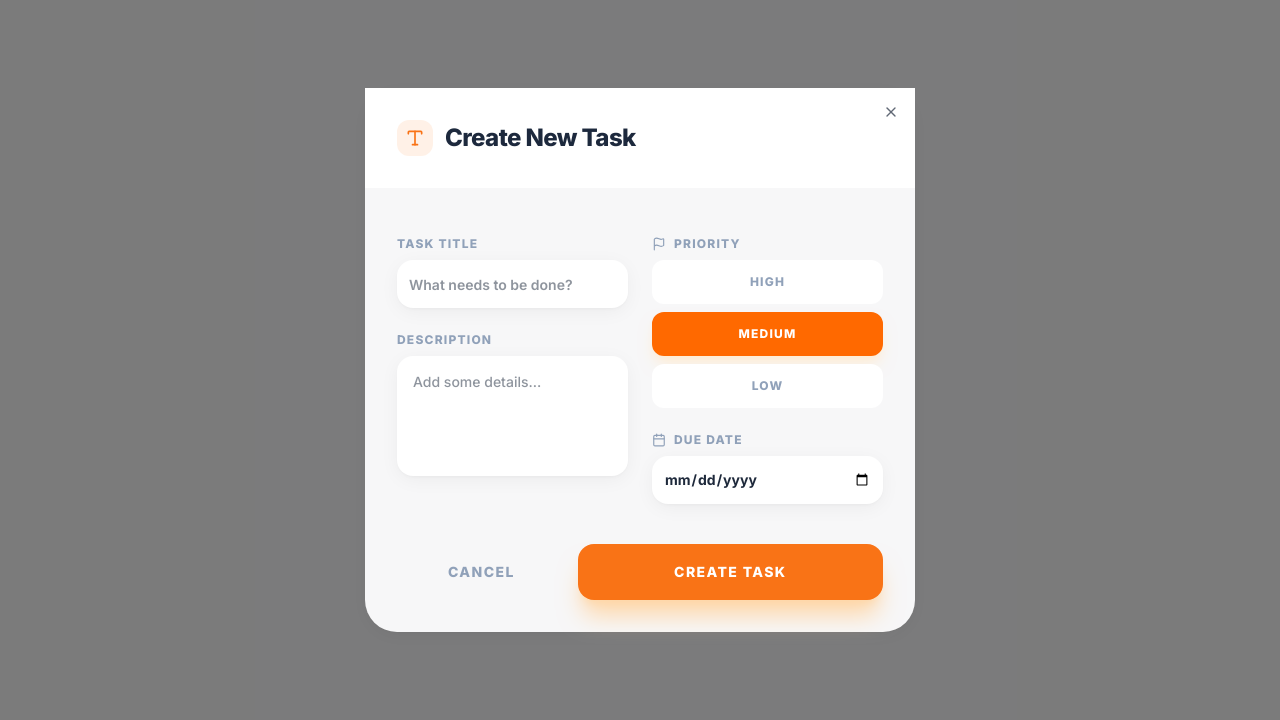
it: TaskModal Component › should show loading state on submit button
This screenshot has width=1280, height=720.
Type "Task" into the field labelled "Task Title" at (512, 284), box [397,260,628,308]
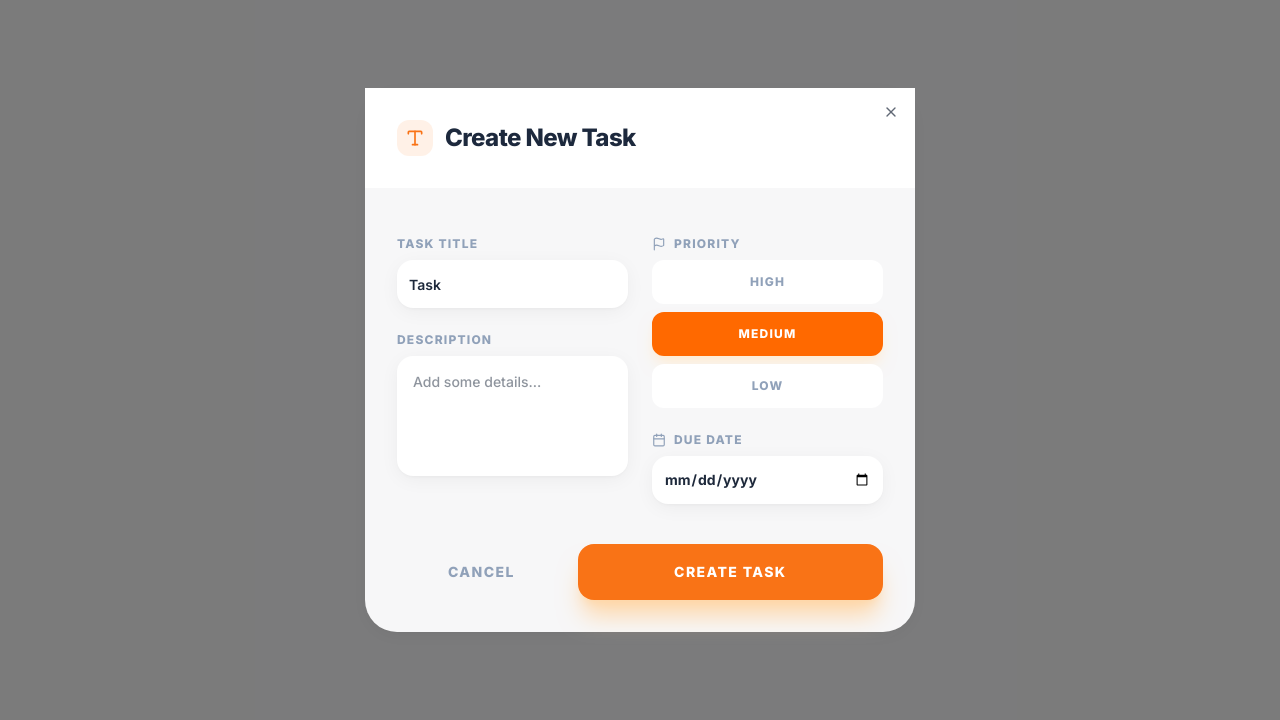
Click the button "Create Task" at (730, 572), box [578,544,883,600]
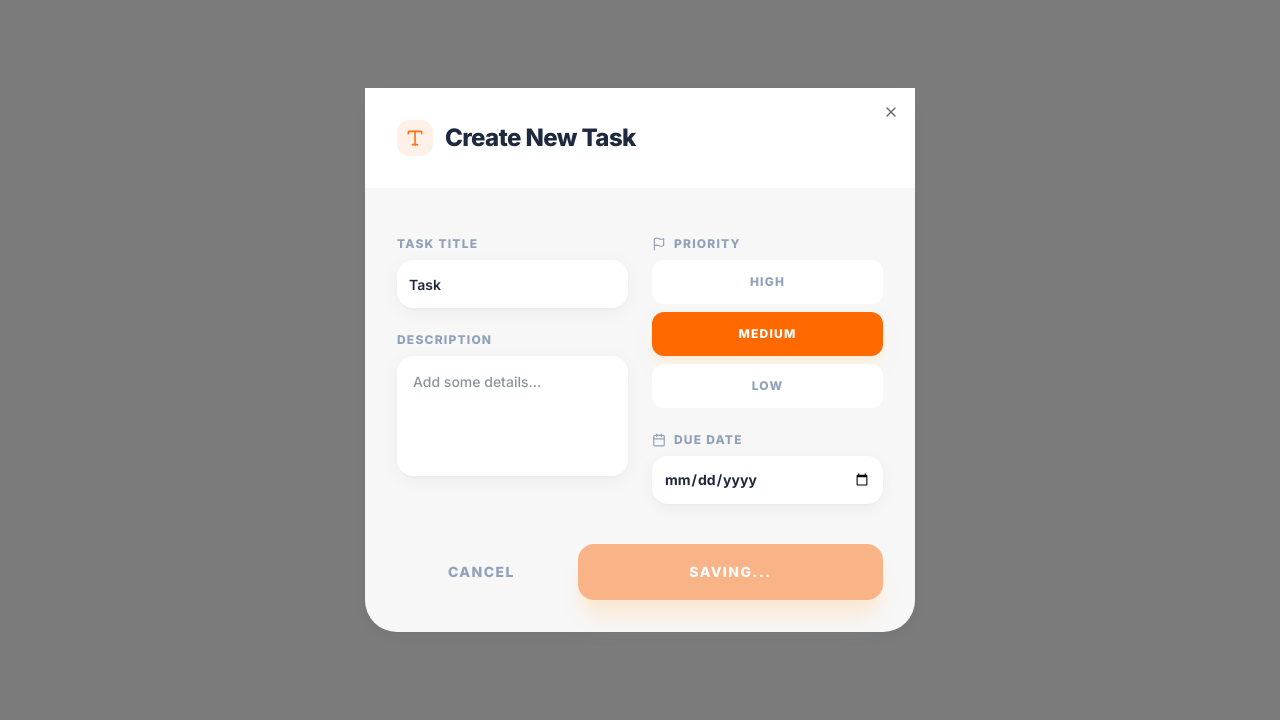
Now the button "Saving..." is shown, box [578,544,883,600]
